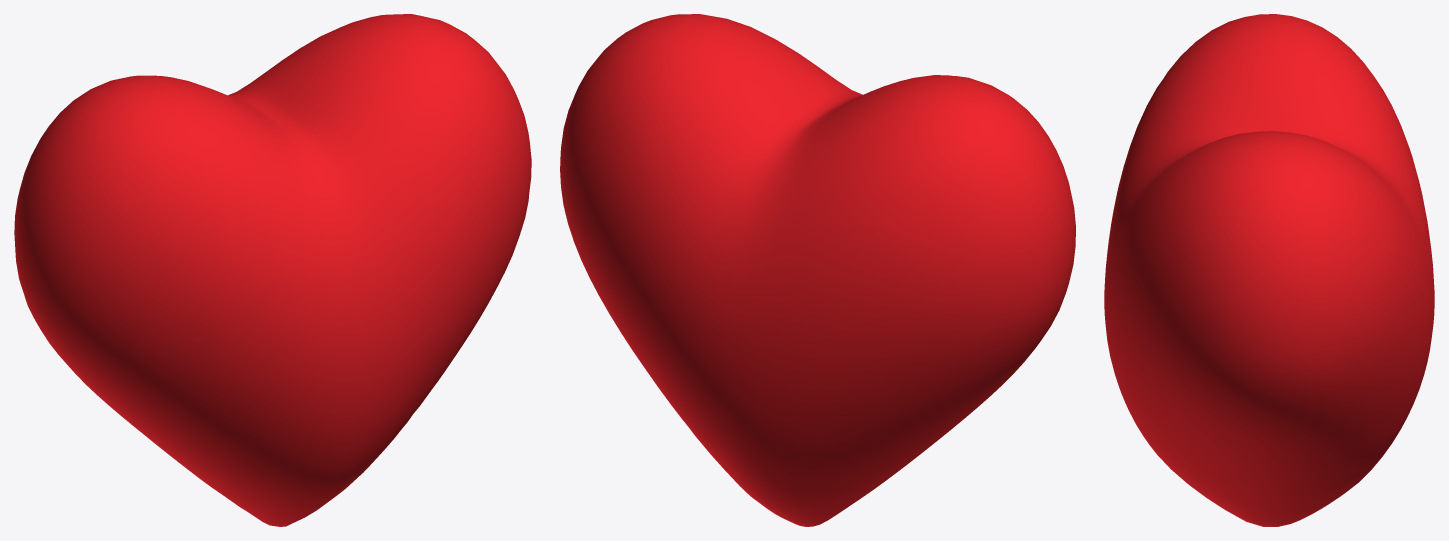
Rendered from Kalp2.glb.
The picture shows the model from 3 angles, left to right: view 1: azimuth 30°, elevation 25°; view 2: azimuth 150°, elevation 25°; view 3: azimuth 270°, elevation 25°; orthographic projection. The views are drawn at different scales.
Parts seen in each view (by area): view 1: node_id30; view 2: node_id30; view 3: node_id30.
Part boxes in pixels (bbox=[...]): node_id30: bbox=[14, 14, 531, 526]; node_id30: bbox=[560, 14, 1075, 526]; node_id30: bbox=[1104, 14, 1434, 526].
Size of the model in its own units: 0.2076 by 0.1912 by 0.1294.
Materials: 1 (1 with a texture image).
